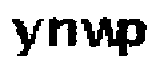n: (48, 13, 80, 49)
p: (118, 16, 146, 60)
w: (80, 14, 124, 50)
y: (8, 13, 43, 60)
